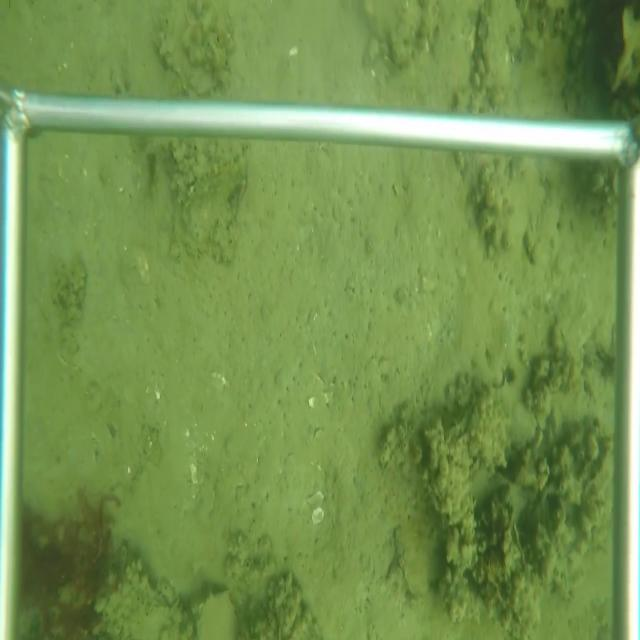Oyster-Closed: (512, 517, 528, 581)
Oyster-Indeterminate: (392, 516, 429, 600), (195, 589, 241, 637)
